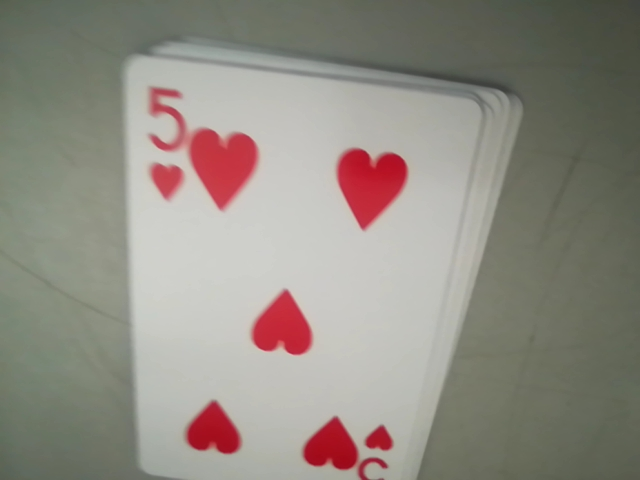hx 5: (126, 68, 195, 214)
